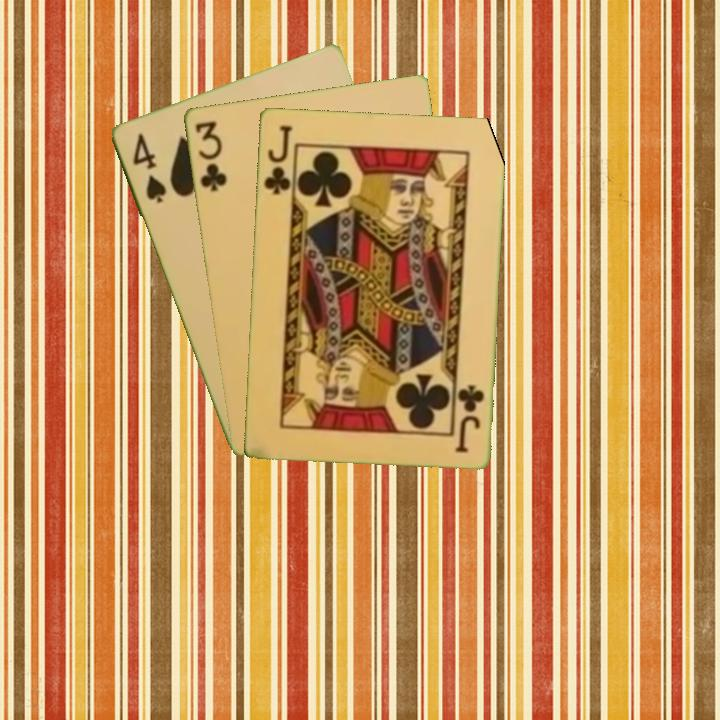3c: (191, 117, 229, 194)
4s: (128, 129, 169, 206)
Jc: (259, 121, 294, 198), (452, 381, 487, 455)
